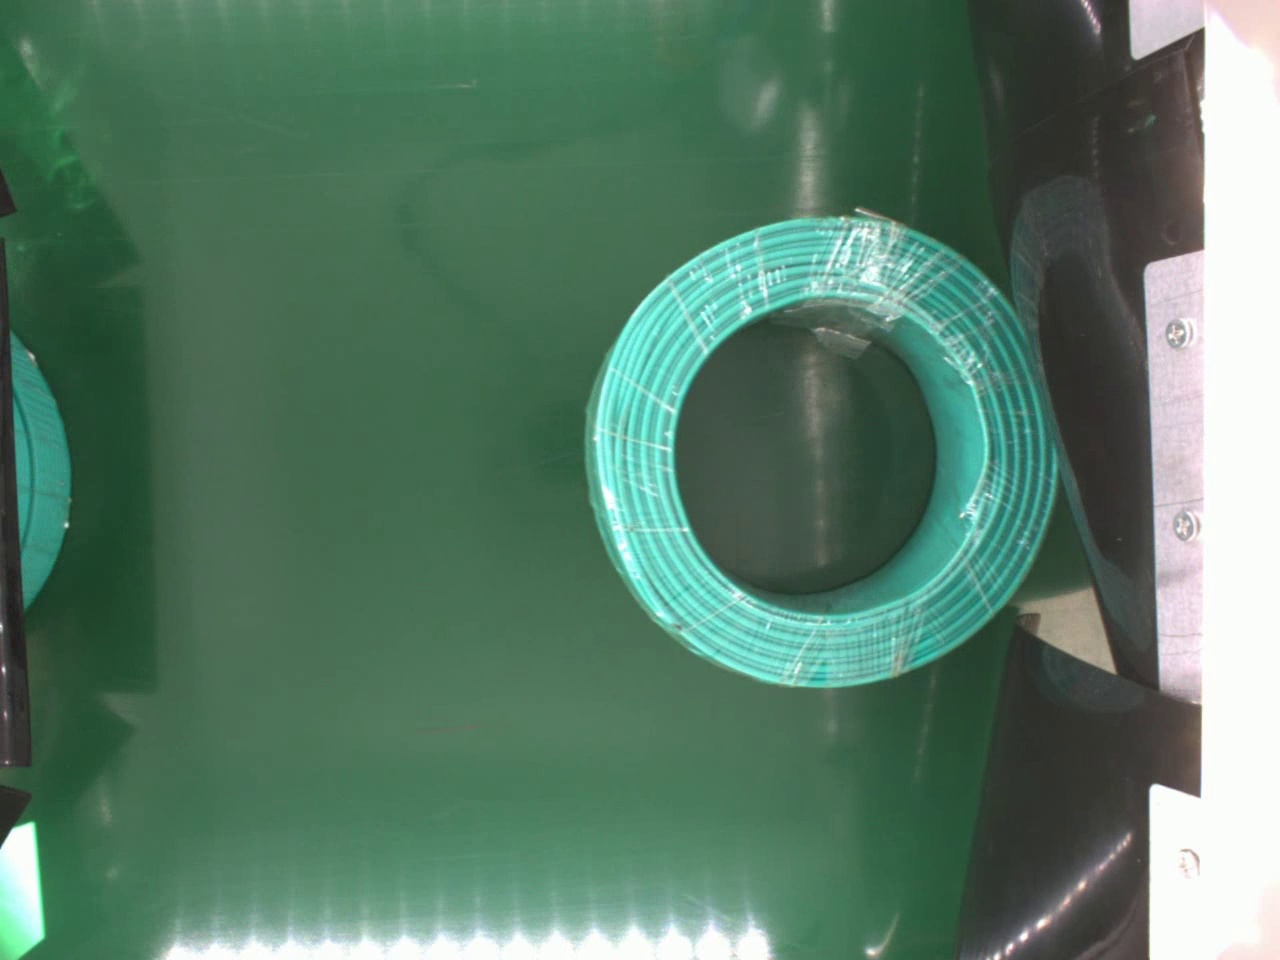green: (581, 210, 1060, 690)
